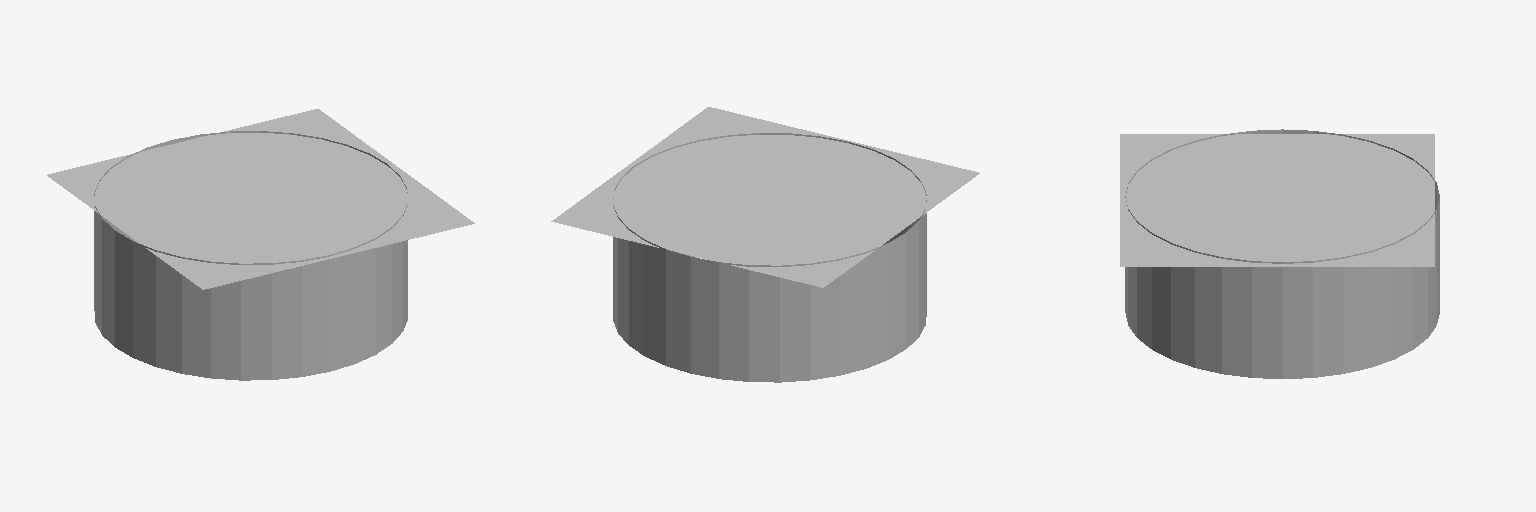
Rendered from clouds.obj.
The picture shows the model from 3 angles: view 1: azimuth 30°, elevation 25°; view 2: azimuth 150°, elevation 25°; view 3: azimuth 270°, elevation 25°; orthographic projection.
Parts seen in each view (by area): view 1: Plane, Cylinder; view 2: Plane, Cylinder; view 3: Plane, Cylinder.
Boxes of the visible parts, x1,y1,x2,y2 form: Plane: [47, 109, 474, 289]; Cylinder: [94, 131, 407, 380]; Plane: [551, 107, 979, 287]; Cylinder: [613, 133, 926, 382]; Plane: [1120, 134, 1434, 266]; Cylinder: [1125, 129, 1439, 378].
Size of the model in its own units: 2.05 by 0.8207 by 2.03.